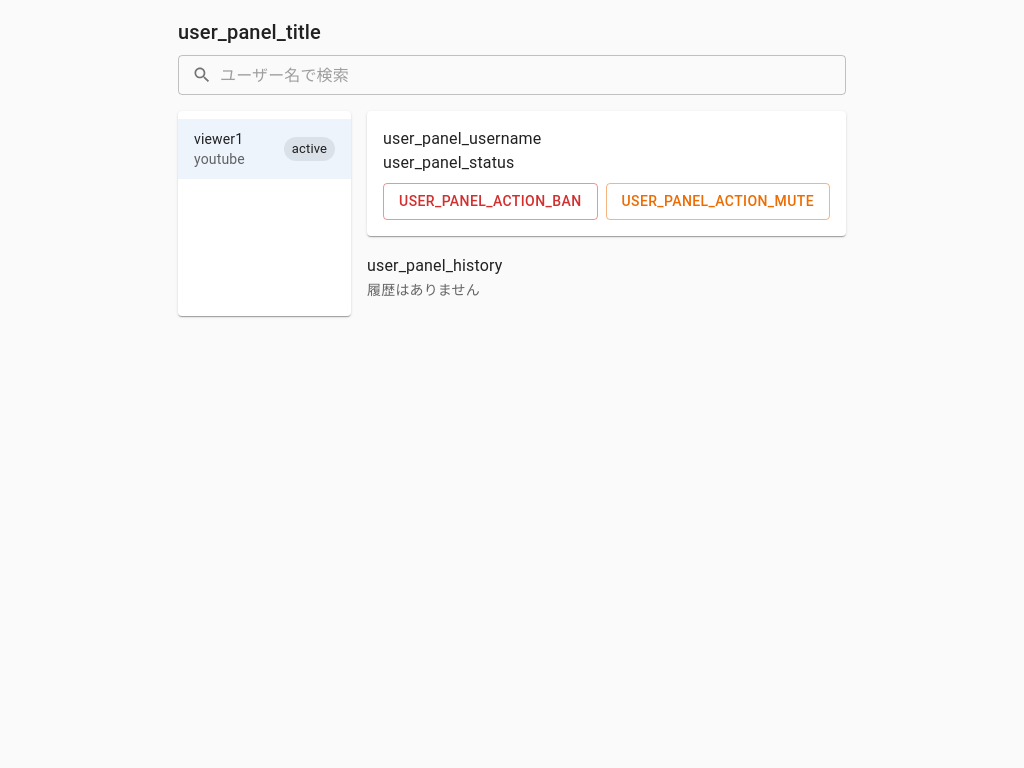
Test: UserPanel の BAN › BAN自体が失敗したらエラーを出す
The image size is (1024, 768).
Expected: the text "viewer1" is shown, x1=194 y1=131 x2=243 y2=147
Step 1. Click the button "user_panel_action_ban" → (490, 201), box x1=383 y1=183 x2=598 y2=220
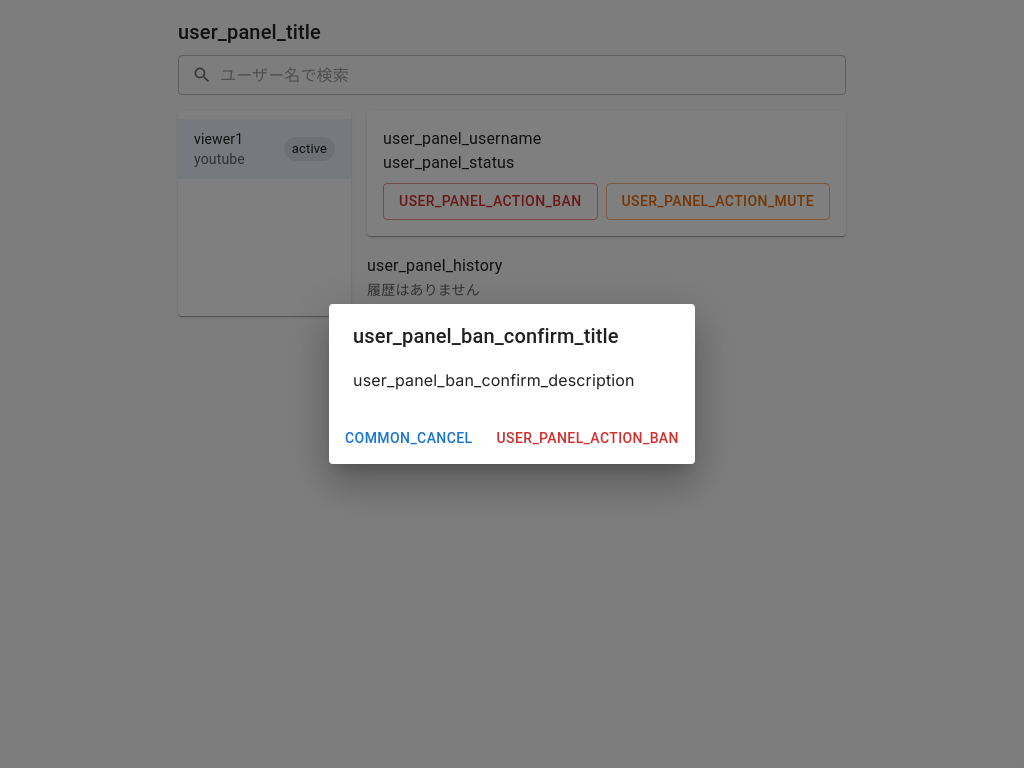
Step 2. Click the button "user_panel_action_ban" → (588, 438), box x1=488 y1=420 x2=687 y2=456
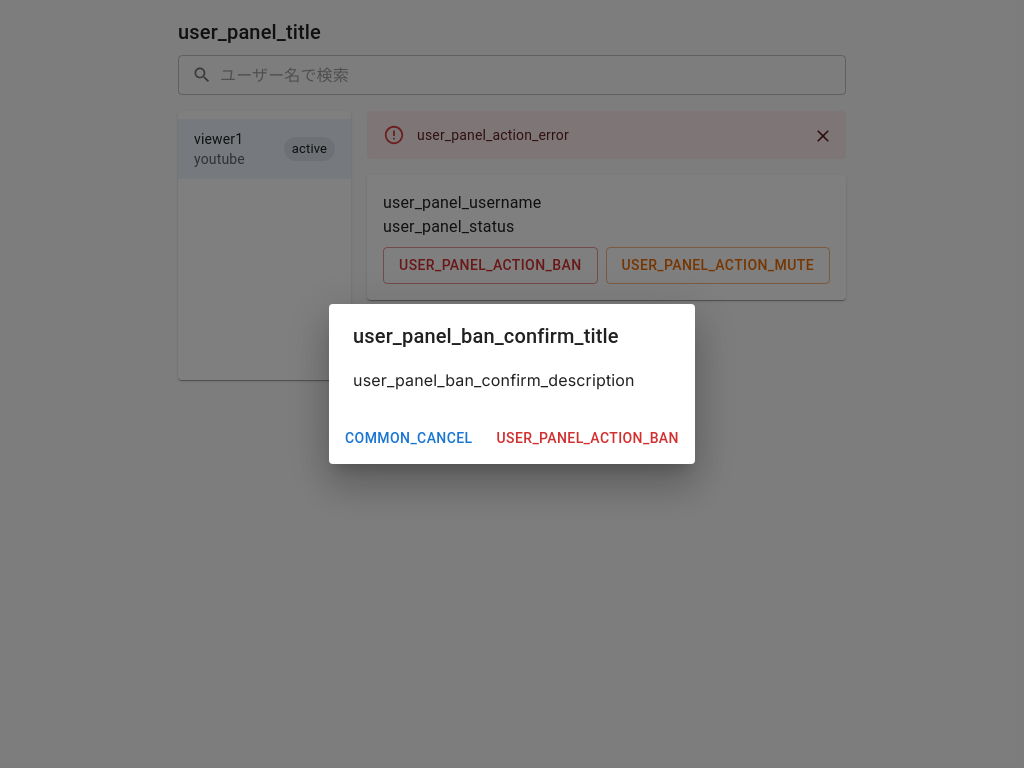
Expected: the text "user_panel_action_error" is shown, x1=417 y1=127 x2=569 y2=143
